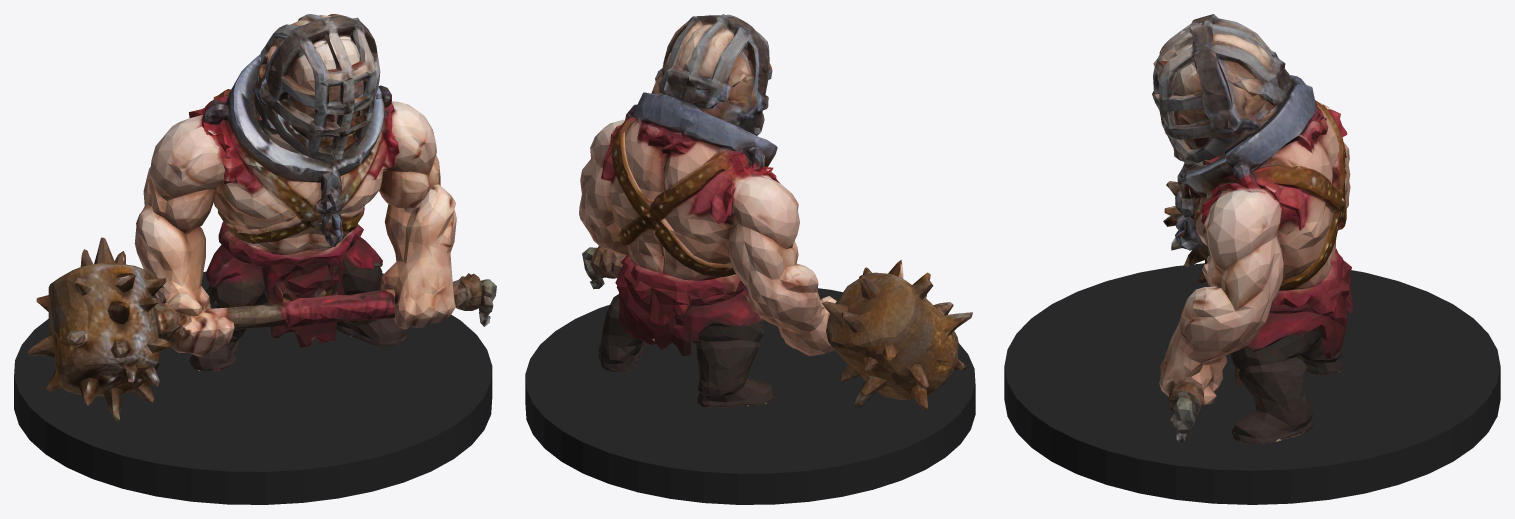
File: jakhal-dishonoured.glb
3 views of the same model, side by side, from view 1: azimuth 30°, elevation 25°; view 2: azimuth 150°, elevation 25°; view 3: azimuth 270°, elevation 25° (orthographic). The views are drawn at different scales.
Visible parts, largest first — view 1: figure, base; view 2: figure, base; view 3: base, figure.
Part boxes in pixels (box(x1,y1,x2,y2)): figure: box(27, 14, 496, 421); base: box(14, 271, 492, 504); figure: box(579, 14, 972, 411); base: box(525, 286, 975, 504); base: box(1004, 263, 1500, 504); figure: box(1152, 14, 1352, 444).
Bounding box in the file's own units: 1.59 × 1.42 × 1.57.
2 materials, 1 textured.
